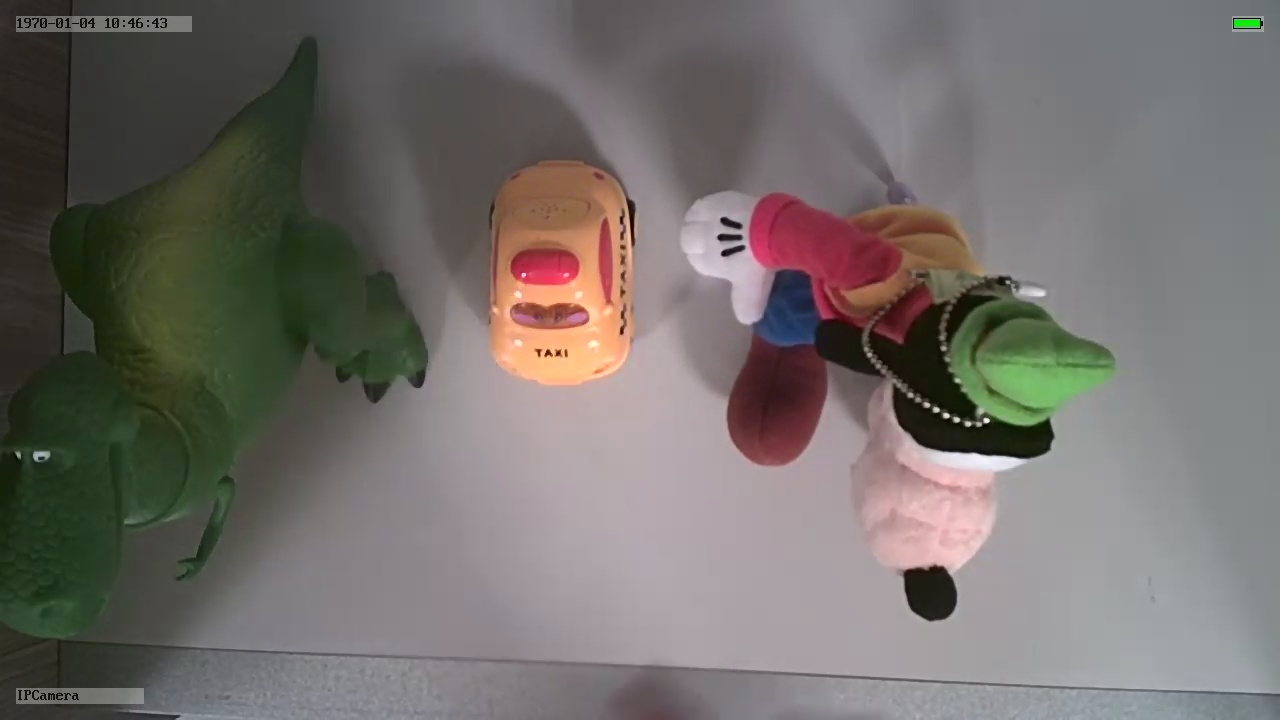car: (480, 153, 642, 387)
goofy: (679, 185, 1119, 638)
rex: (6, 95, 428, 644)
